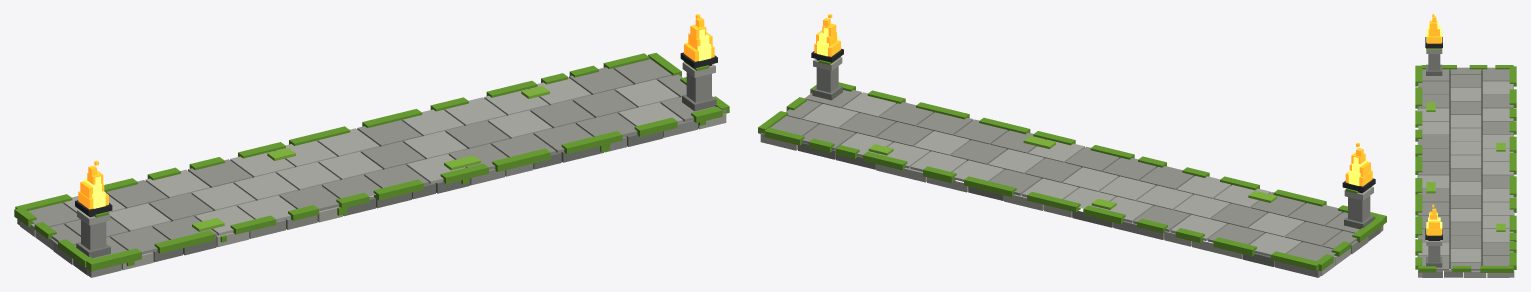
Rendered from Lobby_PortalTerrace.glb.
3 renders of one model, left to right at view 1: azimuth 30°, elevation 25°; view 2: azimuth 150°, elevation 25°; view 3: azimuth 270°, elevation 25°, orthographic. The views are drawn at different scales.
Visible parts, largest first — view 1: terrace_tiles_step_stone, terrace_tiles_stone_light, moss, terrace_bricks_stone_dark, terrace_bricks_stone, terrace_bricks_stone_light, torch_pillars_stone, torch_flames, moss_tufts, torch_flame_core, torch_pillars_stone_dark, torch_bowls (+1 smaller); view 2: terrace_tiles_step_stone, terrace_tiles_stone_light, moss, terrace_bricks_stone_light, terrace_bricks_stone_dark, torch_pillars_stone, torch_flames, terrace_bricks_stone, moss_tufts, torch_flame_core, torch_pillars_stone_dark, torch_bowls (+1 smaller); view 3: terrace_tiles_step_stone, terrace_tiles_stone_light, moss, terrace_core, torch_flames, torch_pillars_stone, moss_tufts, terrace_bricks_stone_light, terrace_bricks_stone, torch_pillars_stone_dark, torch_bowls, torch_flame_core (+1 smaller).
Part boxes in pixels (x1=…): terrace_tiles_step_stone: x1=28, y1=58, x2=726, y2=258; terrace_tiles_stone_light: x1=64, y1=77, x2=682, y2=235; moss: x1=14, y1=53, x2=729, y2=271; terrace_bricks_stone_dark: x1=73, y1=131, x2=663, y2=275; terrace_bricks_stone: x1=17, y1=120, x2=697, y2=277; terrace_bricks_stone_light: x1=20, y1=113, x2=726, y2=270; torch_pillars_stone: x1=81, y1=72, x2=711, y2=250; torch_flames: x1=78, y1=14, x2=714, y2=209; moss_tufts: x1=192, y1=86, x2=549, y2=231; torch_flame_core: x1=83, y1=29, x2=711, y2=208; torch_pillars_stone_dark: x1=76, y1=94, x2=716, y2=258; torch_bowls: x1=75, y1=52, x2=717, y2=217; terrace_tiles_step_stone: x1=761, y1=90, x2=1359, y2=260; terrace_tiles_stone_light: x1=802, y1=92, x2=1304, y2=256; moss: x1=758, y1=56, x2=1386, y2=271; terrace_bricks_stone_light: x1=760, y1=133, x2=1350, y2=275; terrace_bricks_stone_dark: x1=798, y1=142, x2=1380, y2=266; torch_pillars_stone: x1=816, y1=66, x2=1370, y2=222; torch_flames: x1=814, y1=14, x2=1372, y2=186; terrace_bricks_stone: x1=1113, y1=221, x2=1383, y2=277; moss_tufts: x1=868, y1=136, x2=1277, y2=209; torch_flame_core: x1=817, y1=27, x2=1367, y2=185; torch_pillars_stone_dark: x1=812, y1=85, x2=1374, y2=229; torch_bowls: x1=811, y1=48, x2=1375, y2=193; terrace_tiles_step_stone: x1=1418, y1=67, x2=1513, y2=270; terrace_tiles_stone_light: x1=1418, y1=81, x2=1513, y2=262; moss: x1=1415, y1=48, x2=1516, y2=272; terrace_core: x1=1449, y1=71, x2=1482, y2=268; torch_flames: x1=1427, y1=14, x2=1441, y2=235; torch_pillars_stone: x1=1428, y1=54, x2=1440, y2=262; moss_tufts: x1=1426, y1=102, x2=1505, y2=231; terrace_bricks_stone_light: x1=1417, y1=85, x2=1514, y2=277; terrace_bricks_stone: x1=1418, y1=135, x2=1513, y2=277; torch_pillars_stone_dark: x1=1426, y1=64, x2=1442, y2=267; torch_bowls: x1=1425, y1=37, x2=1442, y2=240; torch_flame_core: x1=1426, y1=21, x2=1442, y2=234.
Bounding box in the file's own units: 15.16 × 2.34 × 3.2.
